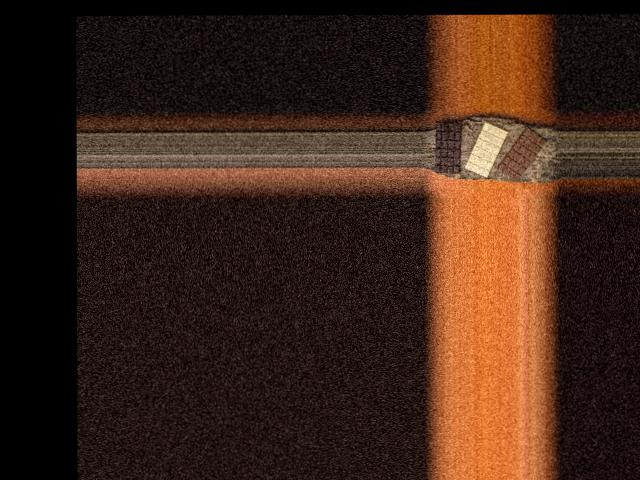chocolate: (434, 120, 461, 173)
